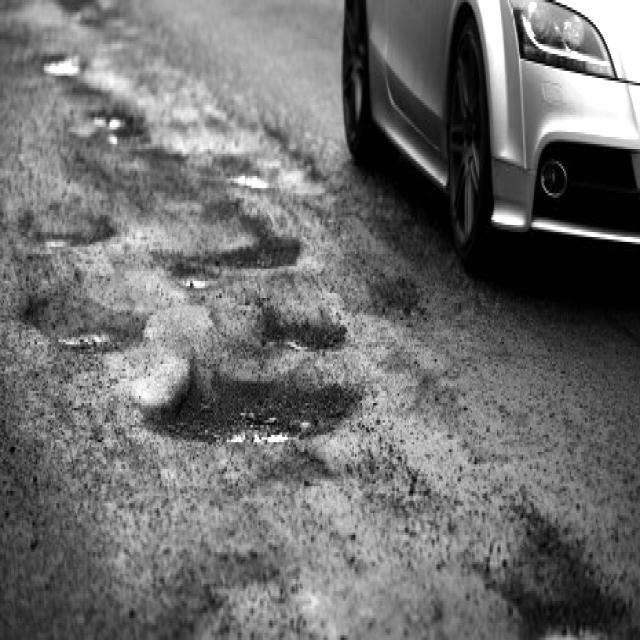pathole: (23, 16, 350, 498), (475, 463, 640, 640)
